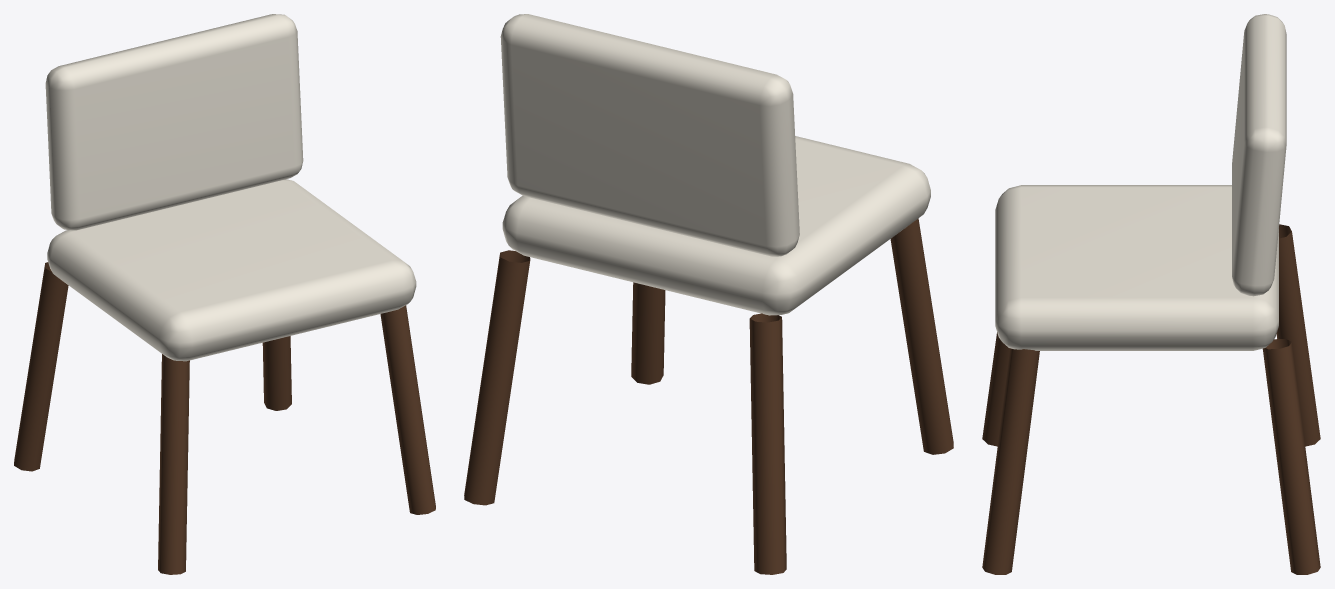
Rendered from wh-curve-back-chair.glb.
3 renders of one model, left to right at view 1: azimuth 30°, elevation 25°; view 2: azimuth 150°, elevation 25°; view 3: azimuth 270°, elevation 25°, orthographic. The views are drawn at different scales.
Visible parts, largest first — view 1: Upholstered seat.003, Chair leg.008; view 2: Upholstered seat.003, Chair leg.008; view 3: Upholstered seat.003, Chair leg.008.
Part boxes in pixels (x1,y1,x2,y2): Upholstered seat.003: (45, 14, 416, 361); Chair leg.008: (14, 262, 435, 574); Upholstered seat.003: (500, 14, 930, 315); Chair leg.008: (464, 218, 953, 574); Upholstered seat.003: (995, 14, 1286, 350); Chair leg.008: (982, 224, 1320, 574).
Bounding box in the file's own units: 0.55 × 0.78 × 0.55.
